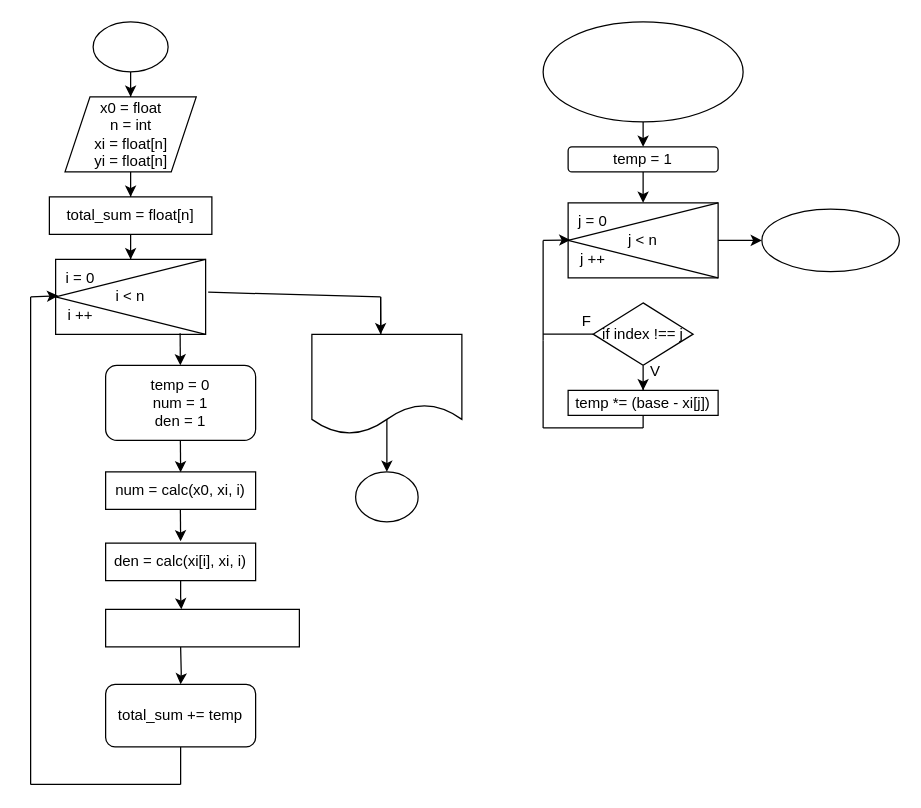
Image size: 921x808. Some labels were removed from this diagram. The shapes that lost their labels are listed below. From the top down, each one's centre as x and y in pixels, then its label:
At point 130,46: "Inicio".
At point 642,71: "function calc(base, xi, index) inicio".
At point 830,240: "return temp".
At point 386,383: "total_sum".
At point 386,496: "Fin".
At point 201,627: "temp = yi[i] * (num / den)".
